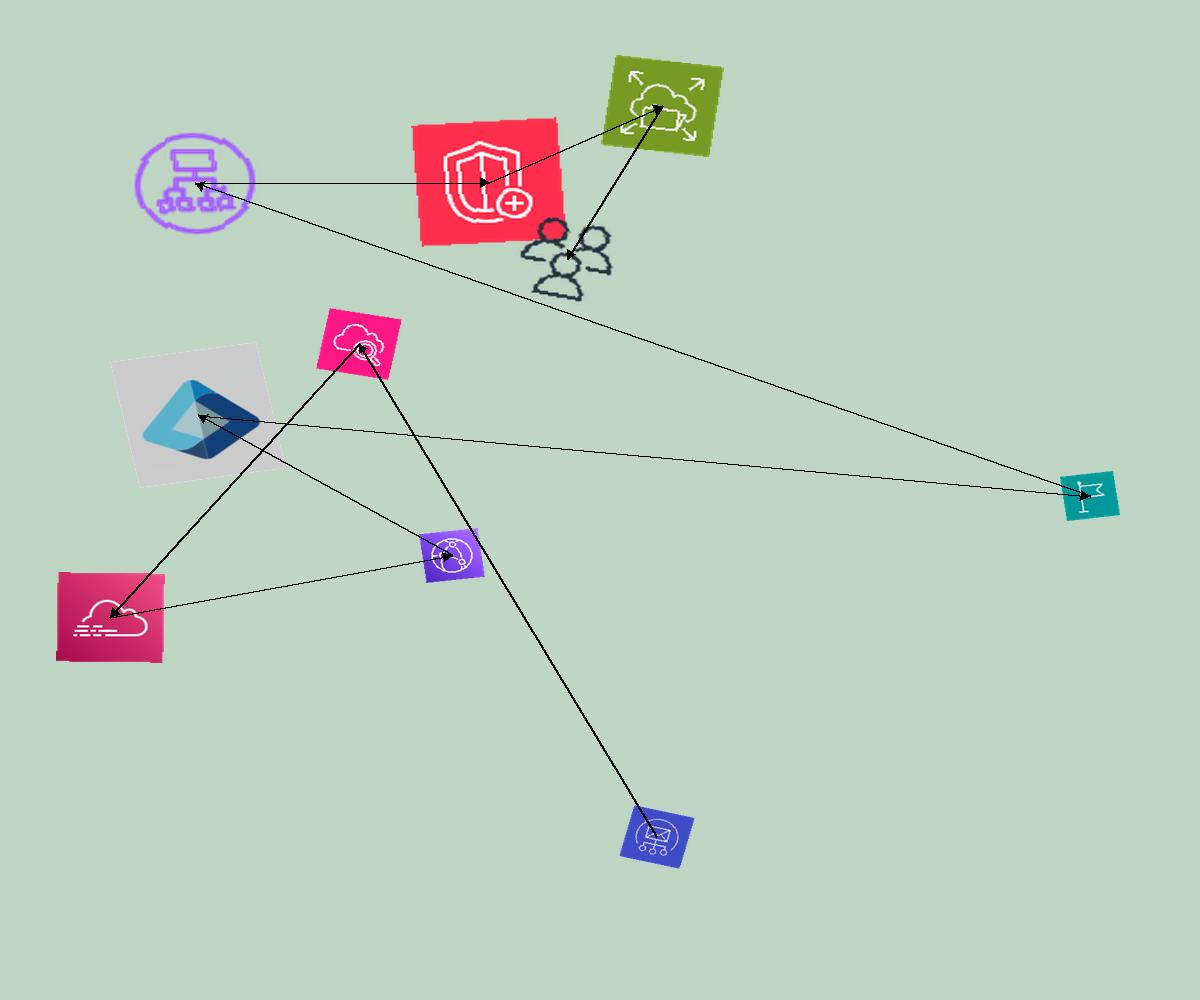AWS-CloudFront: (419, 528, 485, 583)
AWS-CloudTrail: (56, 572, 165, 663)
AWS-CloudWatch: (316, 308, 402, 380)
AWS-EFS: (600, 54, 725, 158)
AWS-Region: (1060, 471, 1120, 521)
AWS-Res_Elastic-Load-Balancing_Application-Load-Balancer: (124, 124, 266, 243)
AWS-Res_Users: (506, 209, 628, 310)
AWS-Shield: (411, 117, 567, 247)
AWS-Simple-Email-Service: (619, 805, 695, 869)
Azure_microsoft_entra: (109, 341, 287, 489)
